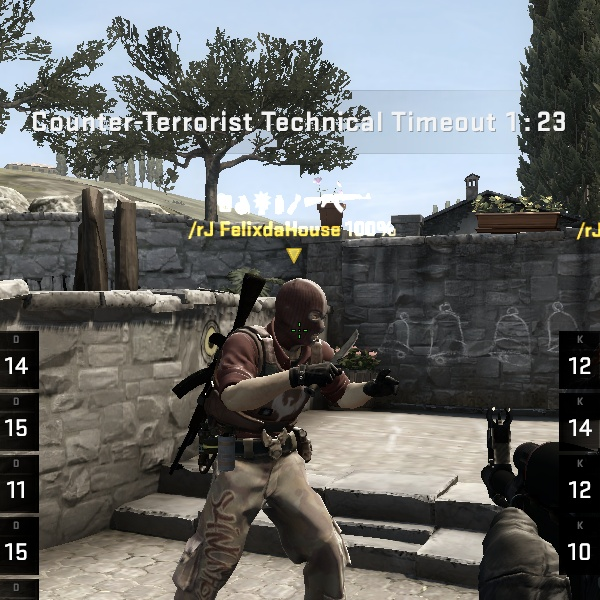t_body: (154, 271, 383, 600)
t_head: (244, 268, 341, 364)
